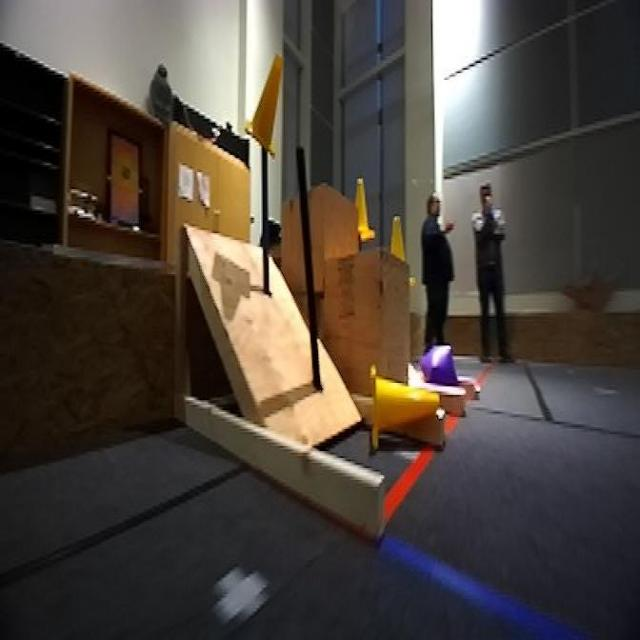frc_cone: (368, 361, 446, 454), (244, 48, 286, 163), (387, 215, 417, 288), (350, 172, 376, 242)
frc_cube: (419, 341, 458, 396)
